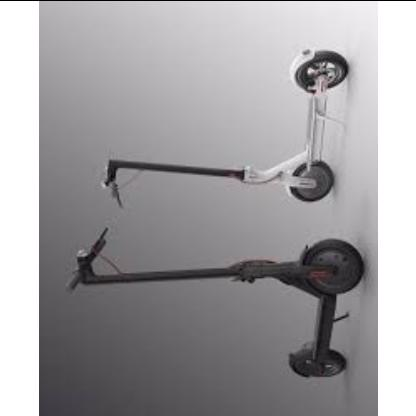bike: (65, 232, 364, 379)
